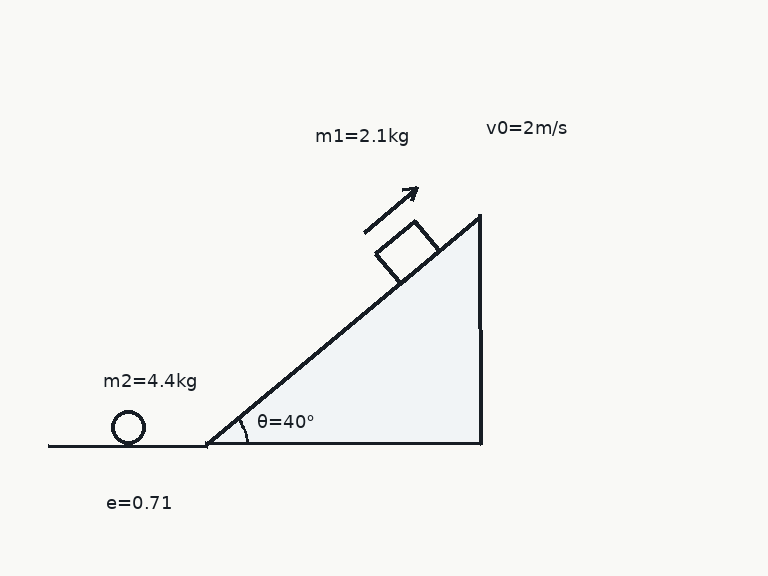ball: (109, 408, 147, 446)
block: (373, 219, 441, 285)
ramp: (205, 213, 482, 446)
